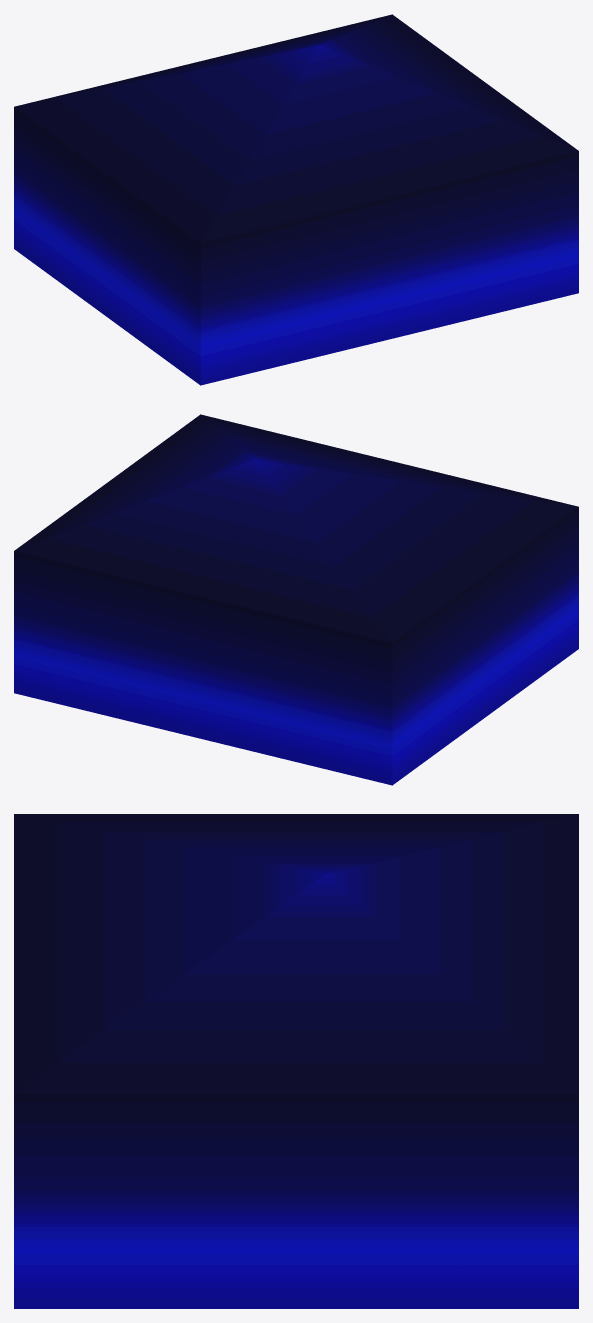
File: mansion_courseD.glb
The picture shows the model from 3 angles, top to bottom: view 1: azimuth 30°, elevation 25°; view 2: azimuth 150°, elevation 25°; view 3: azimuth 270°, elevation 25°; orthographic projection. The views are drawn at different scales.
Visible parts, largest first — view 1: mansion_courseD; view 2: mansion_courseD; view 3: mansion_courseD.
Boxes of the visible parts, box(x1,y1,x2,y2) form: mansion_courseD: box(14, 14, 578, 385); mansion_courseD: box(14, 414, 578, 785); mansion_courseD: box(14, 814, 578, 1308).
Bounding box in the file's own units: 892 × 474 × 762.
Materials: 26 (26 with a texture image).
